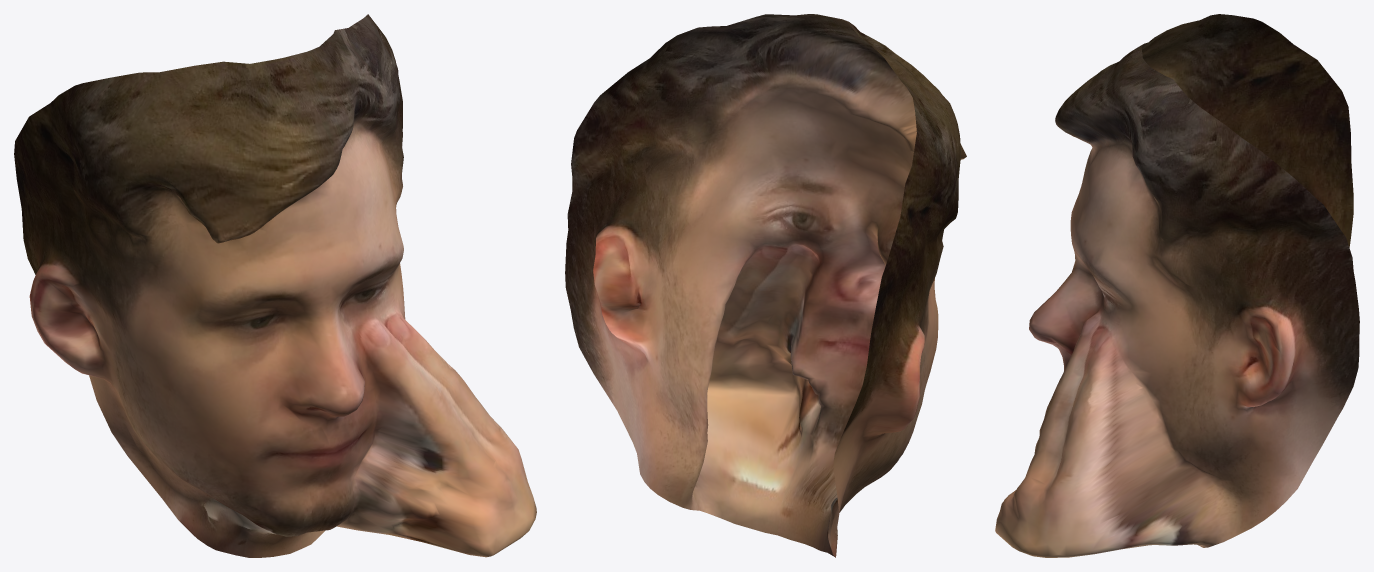
Rendered from headScanLow.glb.
3 renders of one model, left to right at view 1: azimuth 30°, elevation 25°; view 2: azimuth 150°, elevation 25°; view 3: azimuth 270°, elevation 25°, orthographic. The views are drawn at different scales.
Visible parts, largest first — view 1: Node; view 2: Node; view 3: Node.
Boxes of the visible parts, box(x1,y1,x2,y2) form: Node: box(14, 14, 536, 557); Node: box(565, 14, 966, 557); Node: box(995, 14, 1359, 557).
Size of the model in its own units: 197 by 264 by 185.
1 material, 1 textured.
